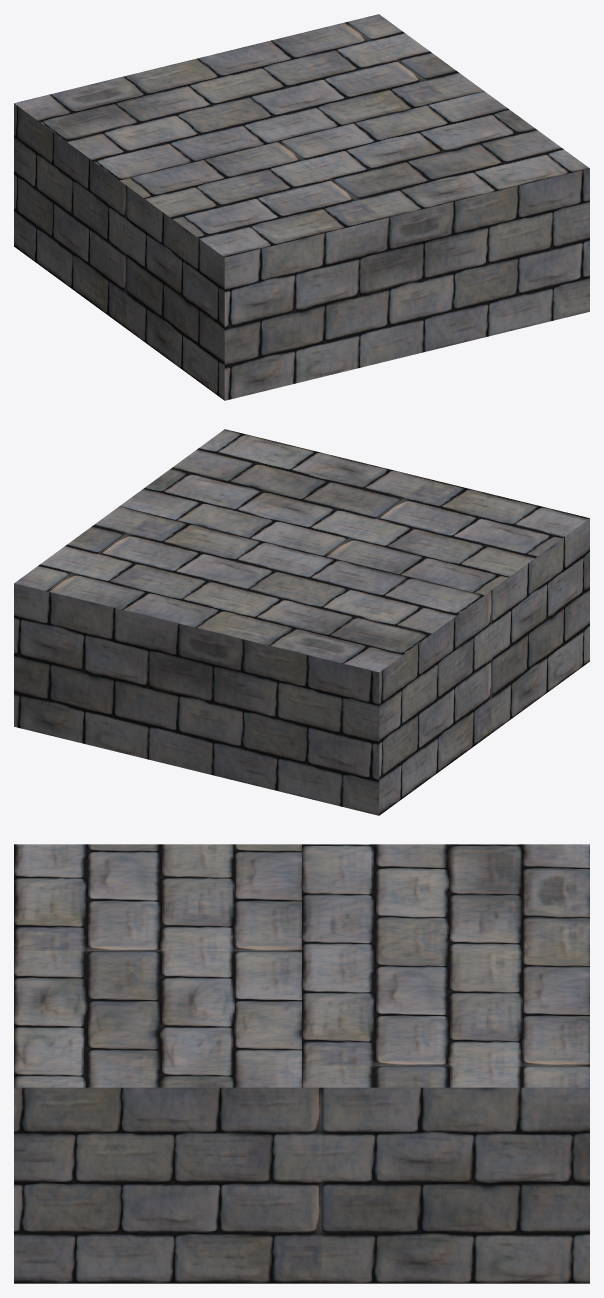
The model's file is platform_01.fbx.
3 views of the same model, one above another, from view 1: azimuth 30°, elevation 25°; view 2: azimuth 150°, elevation 25°; view 3: azimuth 270°, elevation 25° (orthographic). The views are drawn at different scales.
Visible parts, largest first — view 1: platform_01; view 2: platform_01; view 3: platform_01.
Part boxes in pixels (left/top/right/bottom): platform_01: left=14, top=14, right=589, bottom=400; platform_01: left=14, top=429, right=589, bottom=815; platform_01: left=14, top=844, right=589, bottom=1283.
Bounding box in the file's own units: 800 × 300 × 800.
